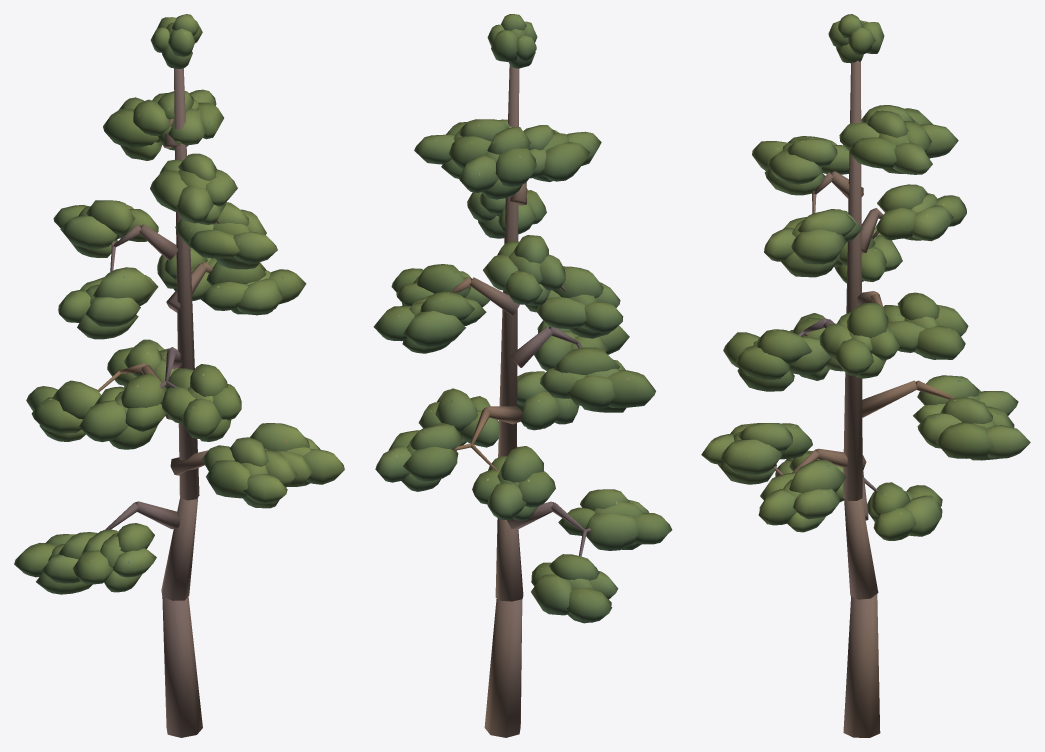
The model's file is HK_Tree_Cedar.glb.
3 views of the same model, side by side, from view 1: azimuth 30°, elevation 25°; view 2: azimuth 150°, elevation 25°; view 3: azimuth 270°, elevation 25° (orthographic).
Parts seen in each view (by area): view 1: HK_Tree_Cedar; view 2: HK_Tree_Cedar; view 3: HK_Tree_Cedar.
Boxes of the visible parts, x1,y1,x2,y2 form: HK_Tree_Cedar: [14, 14, 344, 737]; HK_Tree_Cedar: [373, 14, 672, 737]; HK_Tree_Cedar: [701, 14, 1030, 737].
Size of the model in its own units: 4.06 by 11.05 by 4.62.
